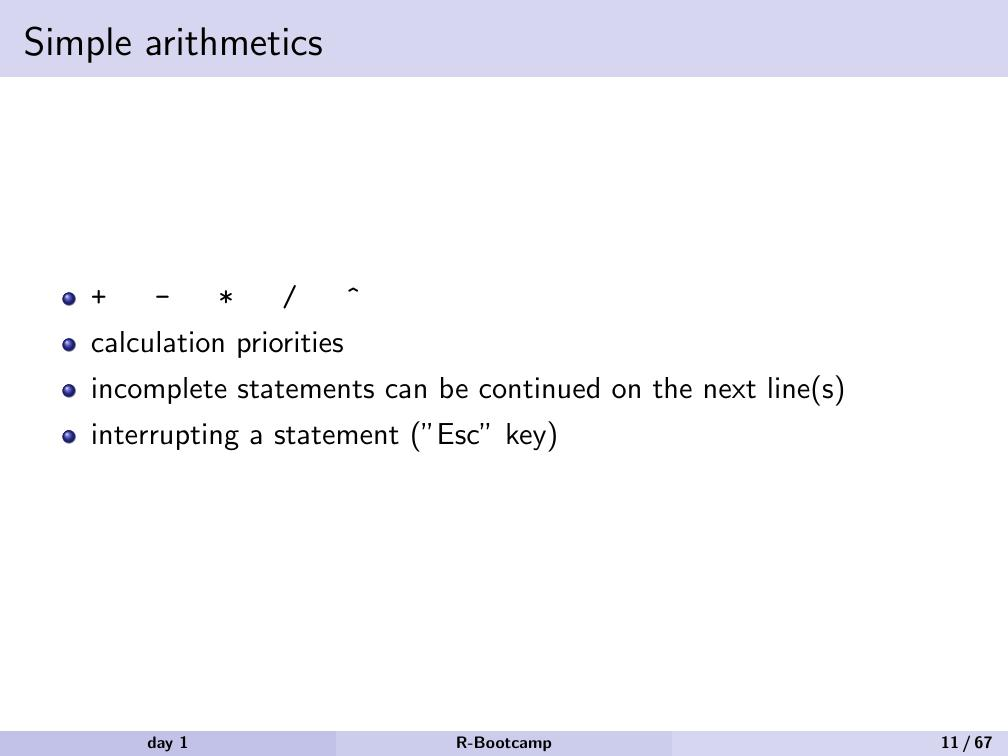Title: (16, 17, 330, 73)
